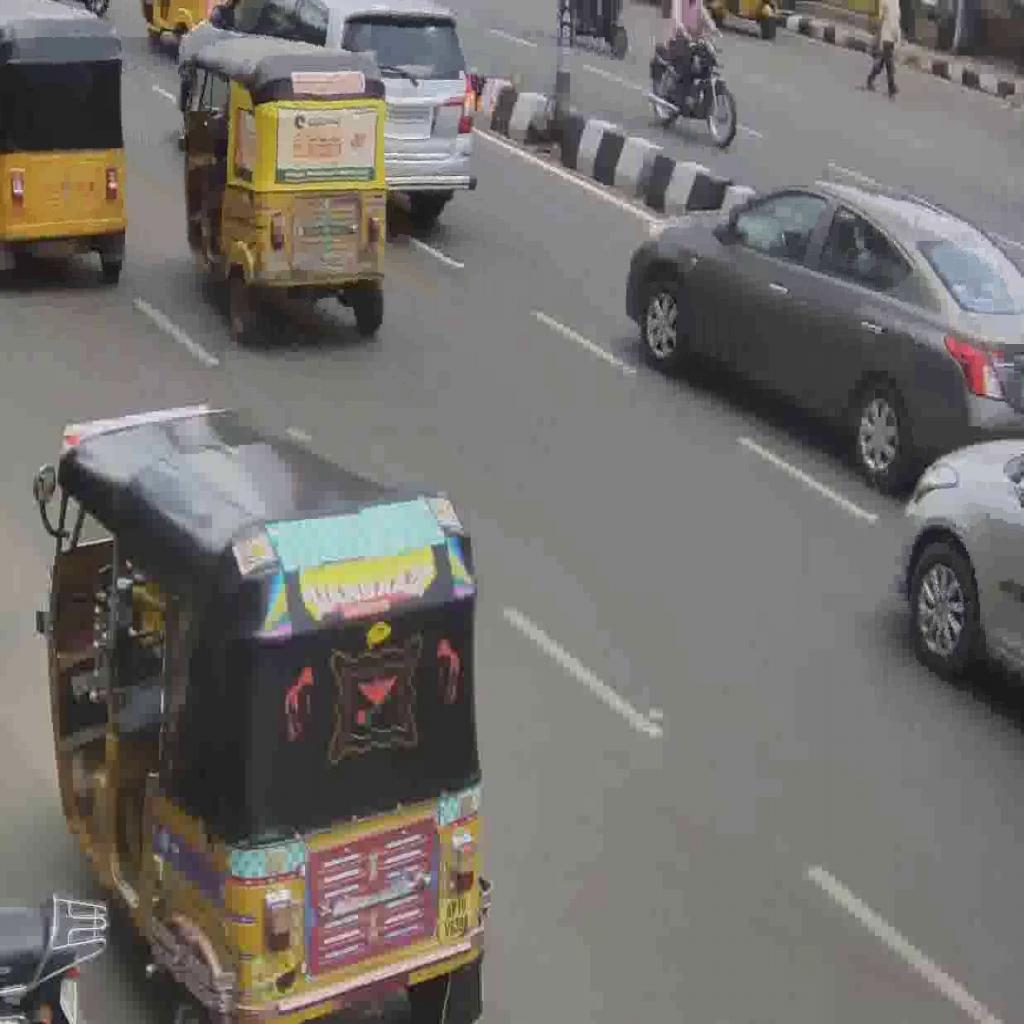noise: (644, 0, 738, 146)
